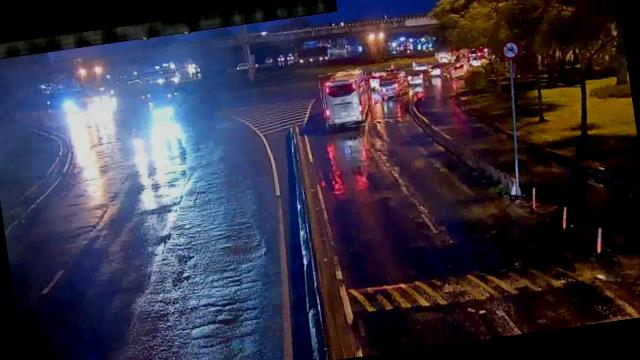Bus: (318, 68, 374, 130)
Car: (376, 78, 406, 100), (444, 60, 470, 80)
